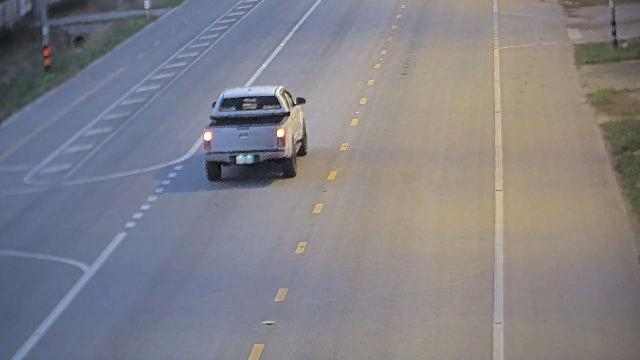pickup-truck: (202, 84, 308, 182)
